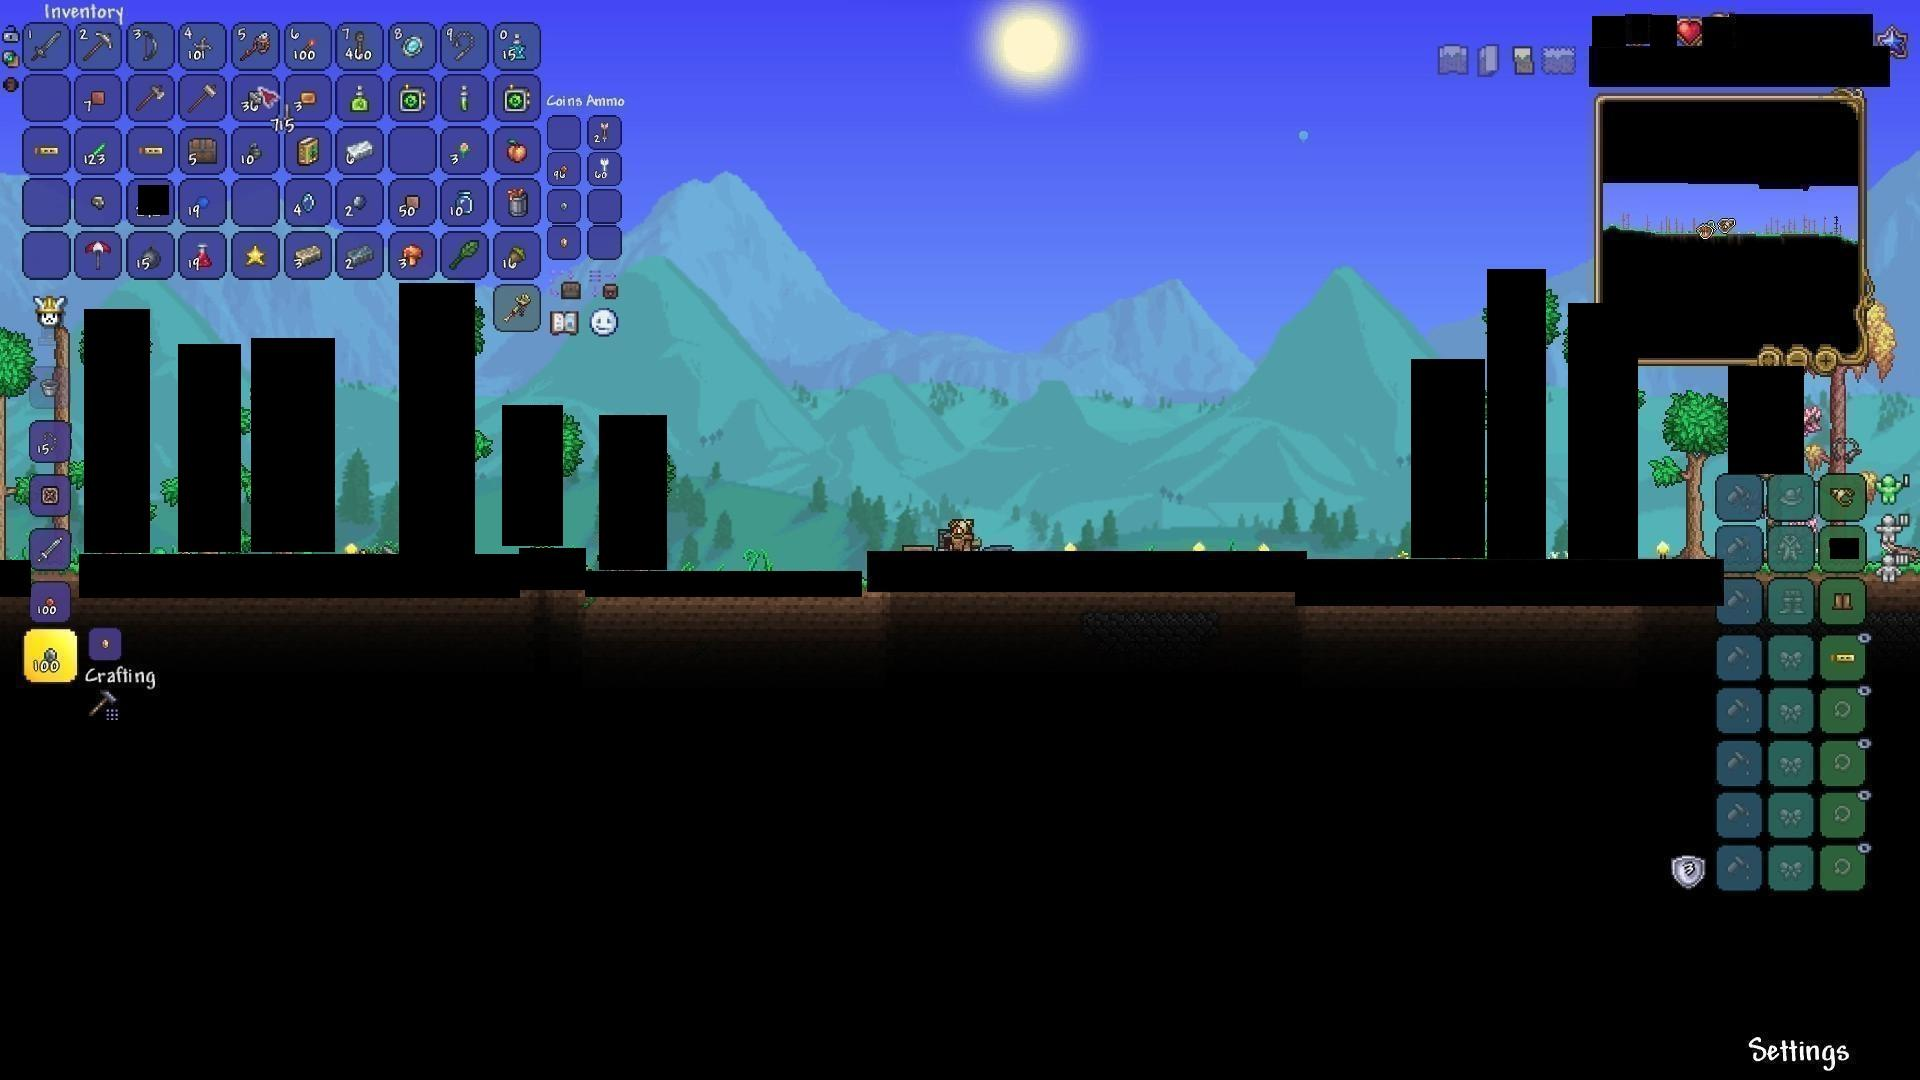heart: (1676, 15, 1704, 50)
helmet: (1829, 485, 1855, 508)
legs: (1830, 589, 1858, 615)
tree: (1659, 385, 1712, 556), (0, 328, 25, 560)
